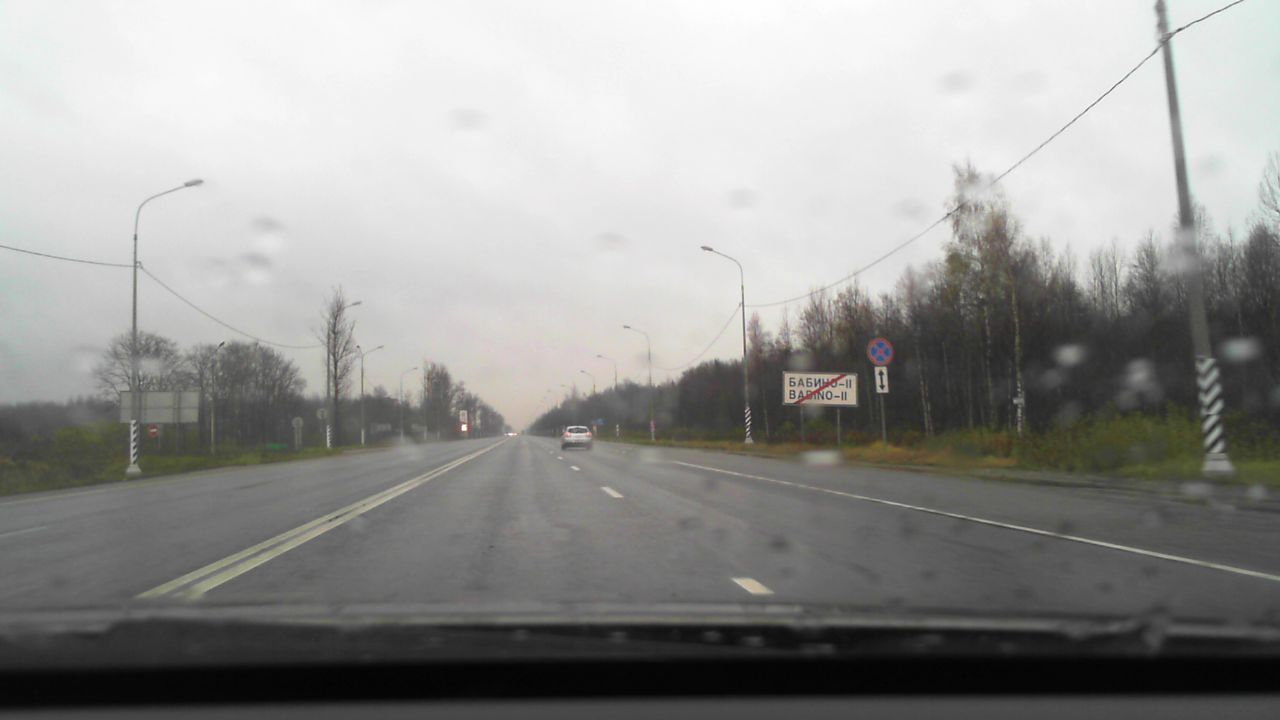No Parking: (866, 338, 894, 365)
